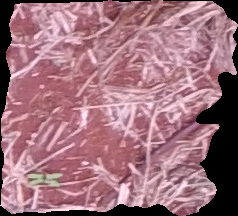soil: (2, 3, 233, 212)
